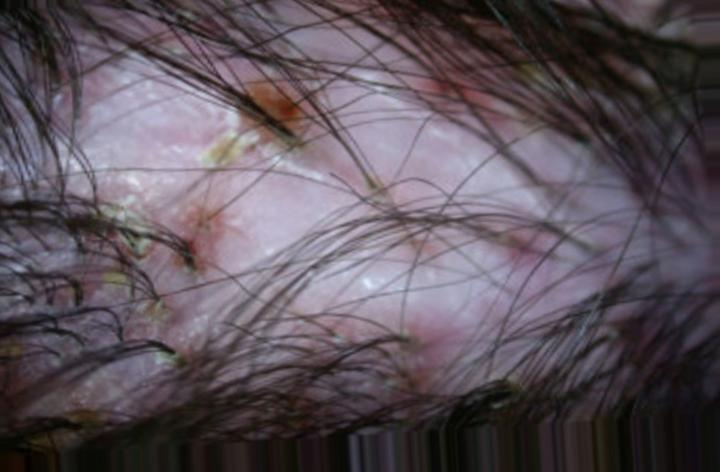Folliculitis: (61, 43, 578, 379)
